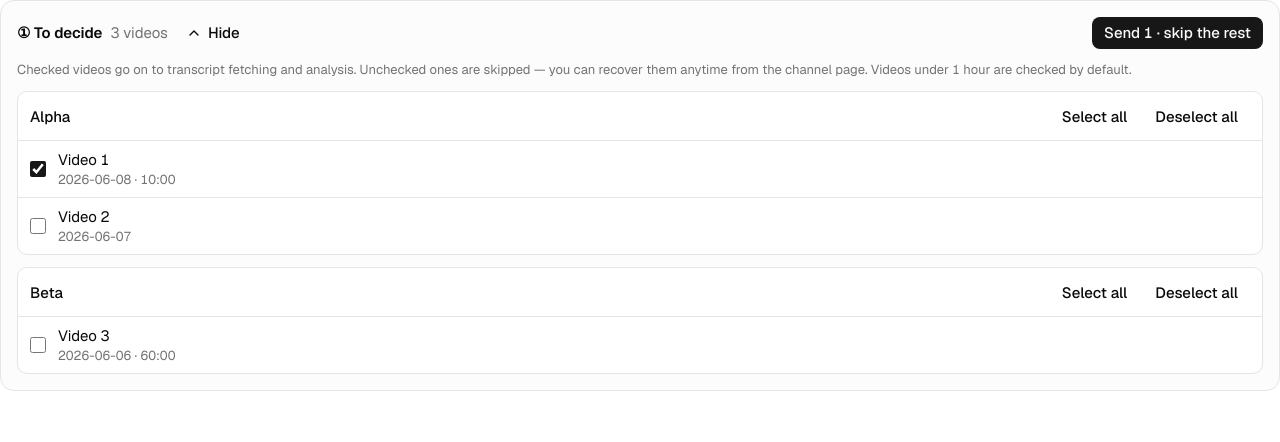
Inbox › shows a failed submit and routes a 401 through handleAuthError
Click the button "Send 1 · skip the rest".
click(1178, 33)  # box [1092,17,1263,49]
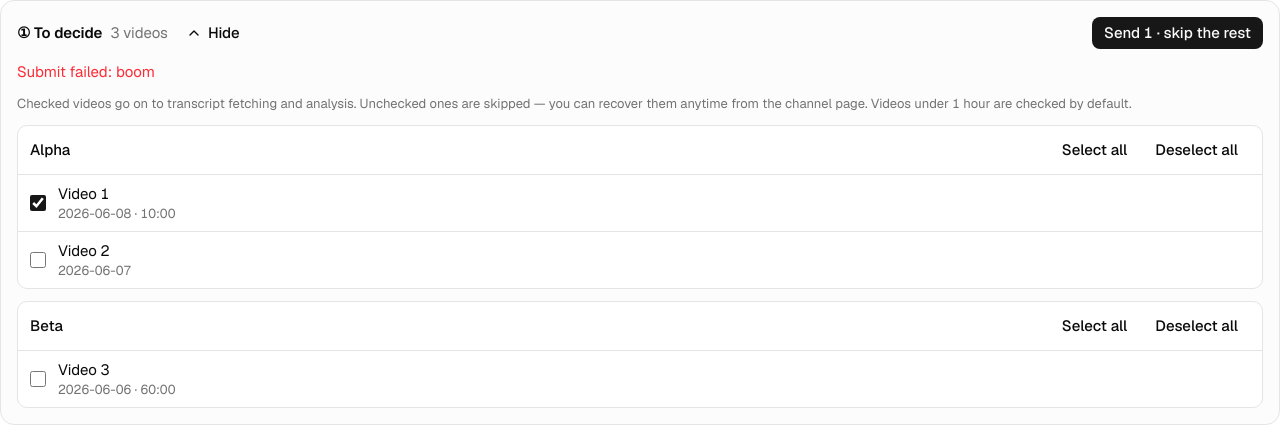
Expected: the text "Submit failed: boom" is shown, [17,62,155,81]
